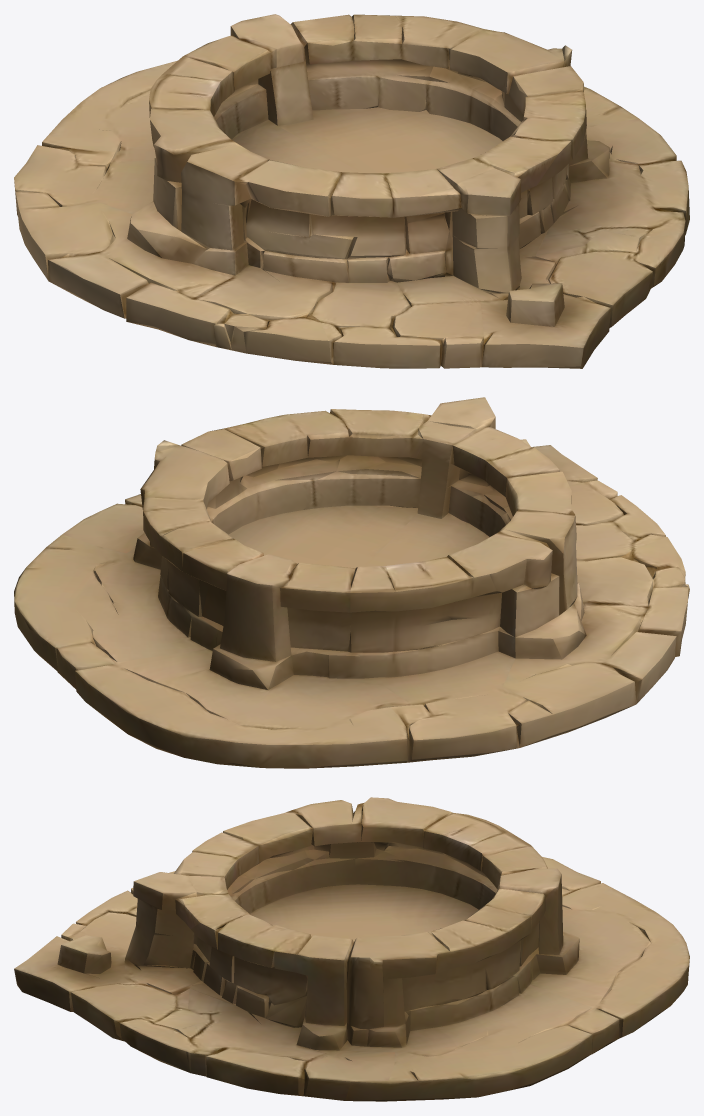
Rendered from m2BossArenaDisc.glb.
The picture shows the model from 3 angles, top to bottom: view 1: azimuth 30°, elevation 25°; view 2: azimuth 150°, elevation 25°; view 3: azimuth 270°, elevation 25°; orthographic projection. The views are drawn at different scales.
Visible parts, largest first — view 1: model; view 2: model; view 3: model.
Part boxes in pixels (<box>): model: <box>14,14,689,368</box>; model: <box>14,397,689,768</box>; model: <box>14,797,689,1101</box>.
Bounding box in the file's own units: 1.64 × 0.3484 × 1.9.
1 material, 1 textured.
